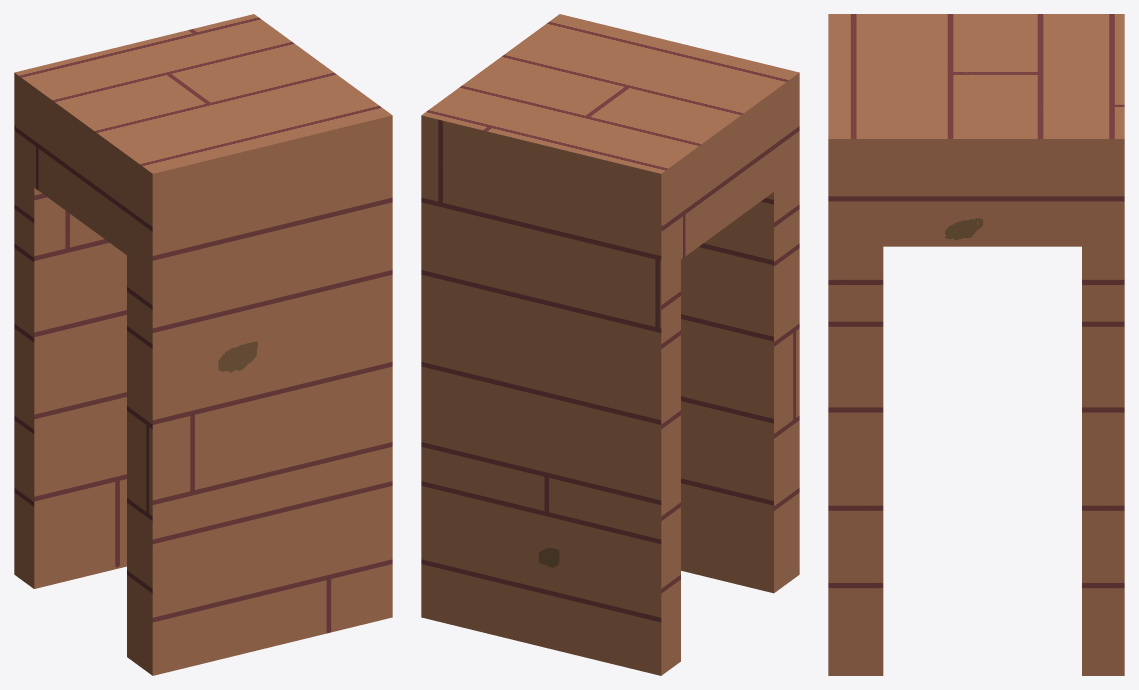
Rendered from door.fbx.
3 views of the same model, side by side, from view 1: azimuth 30°, elevation 25°; view 2: azimuth 150°, elevation 25°; view 3: azimuth 270°, elevation 25° (orthographic). The views are drawn at different scales.
Parts seen in each view (by area): view 1: Cube.001; view 2: Cube.001; view 3: Cube.001.
Part boxes in pixels (left/top/right/bottom): Cube.001: left=14, top=14, right=392, bottom=675; Cube.001: left=421, top=14, right=799, bottom=675; Cube.001: left=828, top=14, right=1124, bottom=675.
Bounding box in the file's own units: 100 × 200 × 100.
